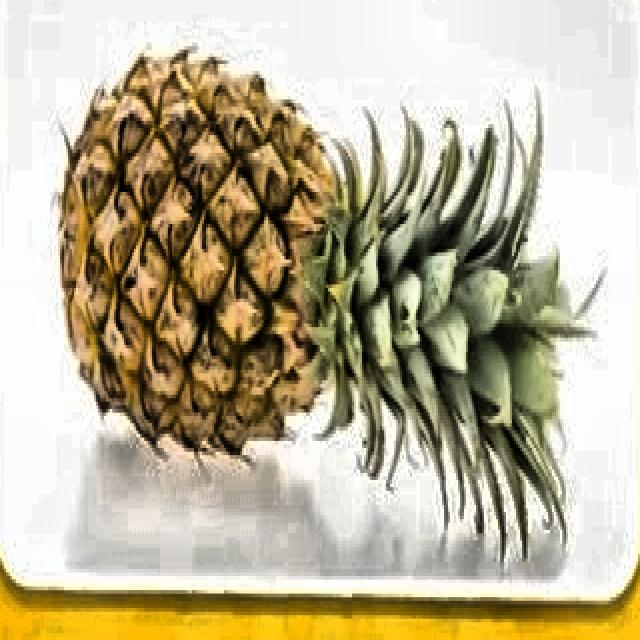Fruit: (52, 0, 590, 523)
